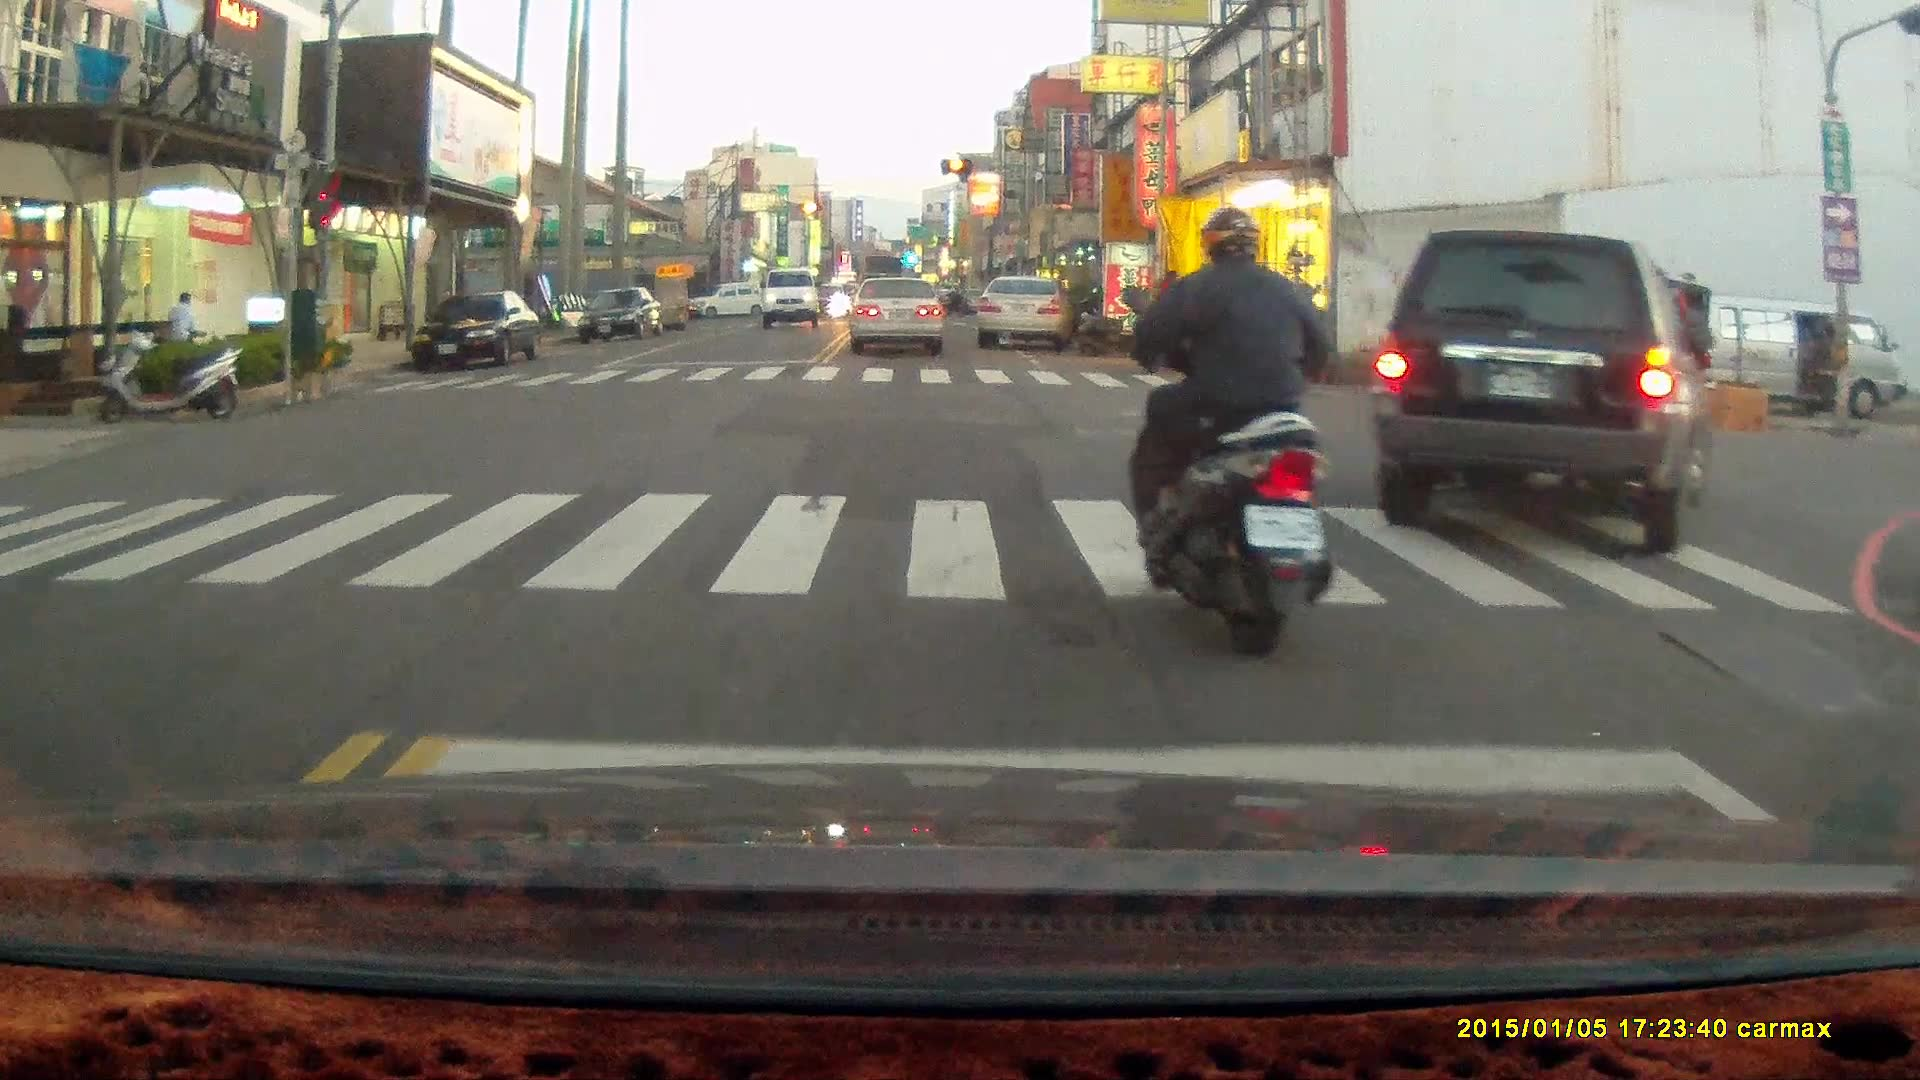pedestrian: (164, 290, 201, 357), (1813, 325, 1838, 416)
rider: (1123, 209, 1343, 668)
vehicle: (1379, 231, 1717, 553), (1654, 292, 1909, 421), (412, 295, 542, 381), (972, 264, 1075, 345), (849, 276, 946, 357), (577, 290, 665, 350), (762, 268, 823, 332)
